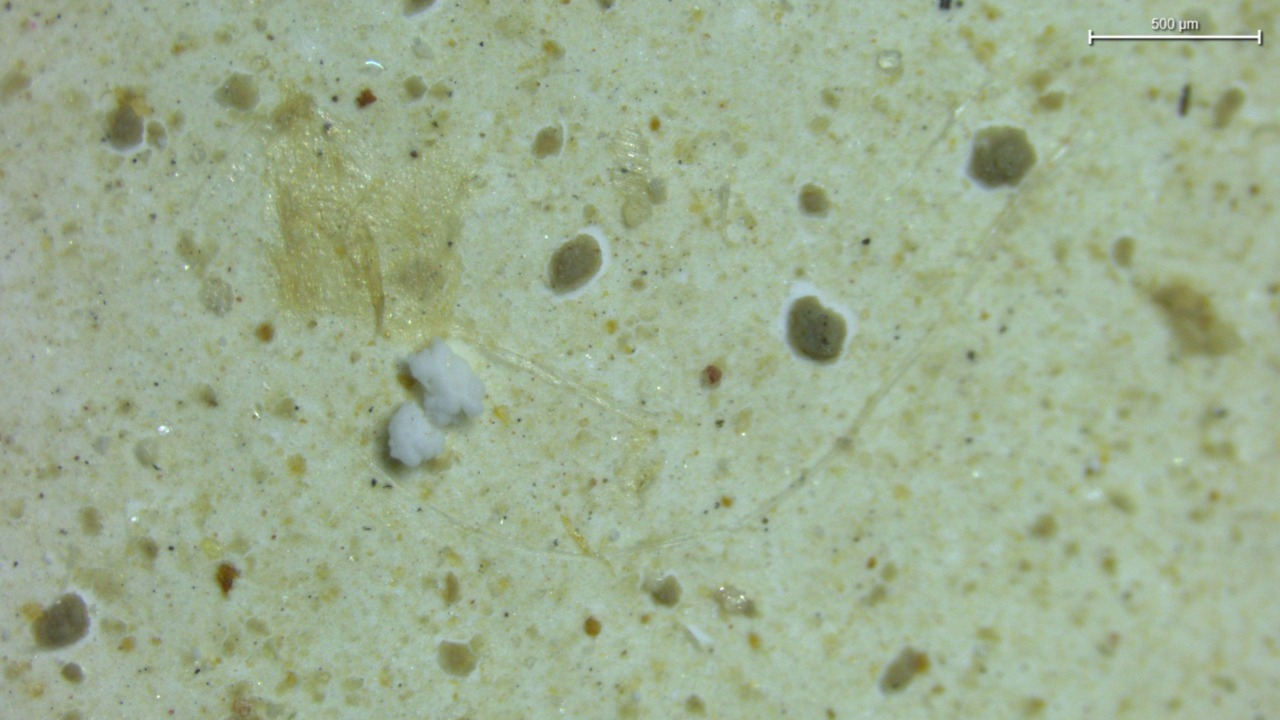microplastic_fragment: (408, 338, 484, 427), (388, 402, 444, 467)
